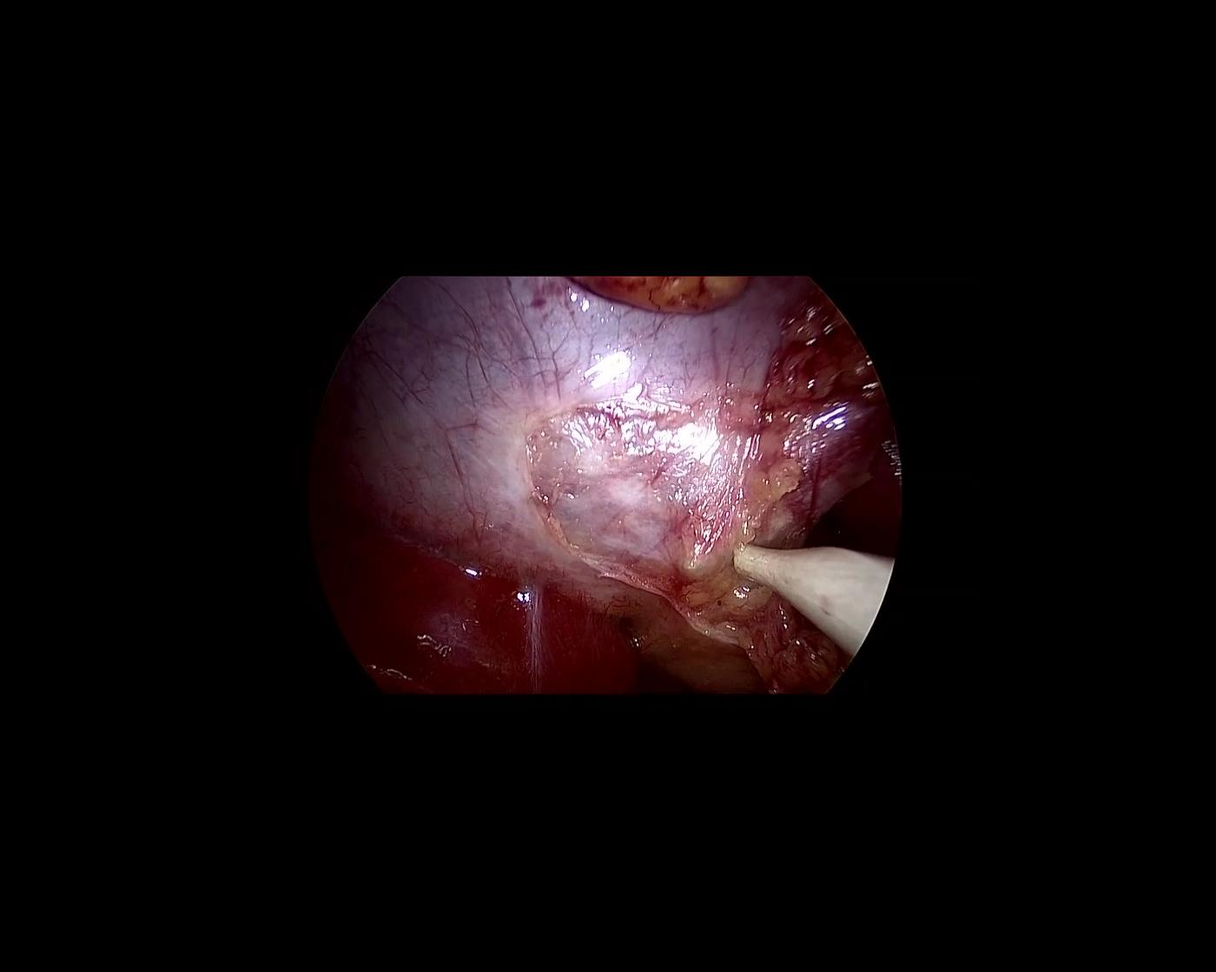Cautery: (713, 519, 893, 657)
Gallbladder: (300, 231, 776, 639)
Liver: (275, 511, 650, 770)
